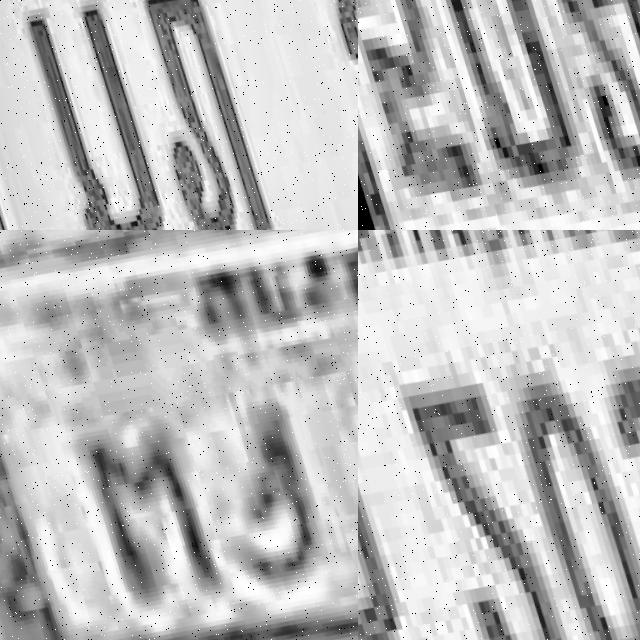license-plate: (0, 230, 358, 640), (358, 230, 640, 640), (0, 0, 358, 230), (358, 0, 640, 230)
